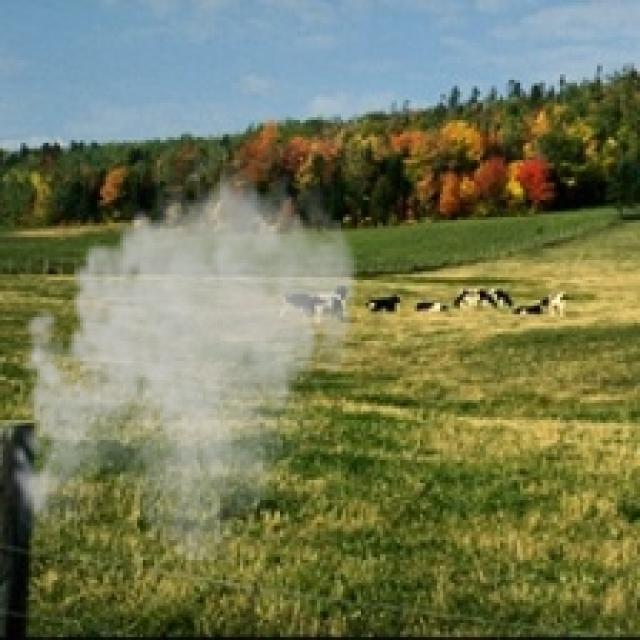smoke: (0, 154, 366, 566)
